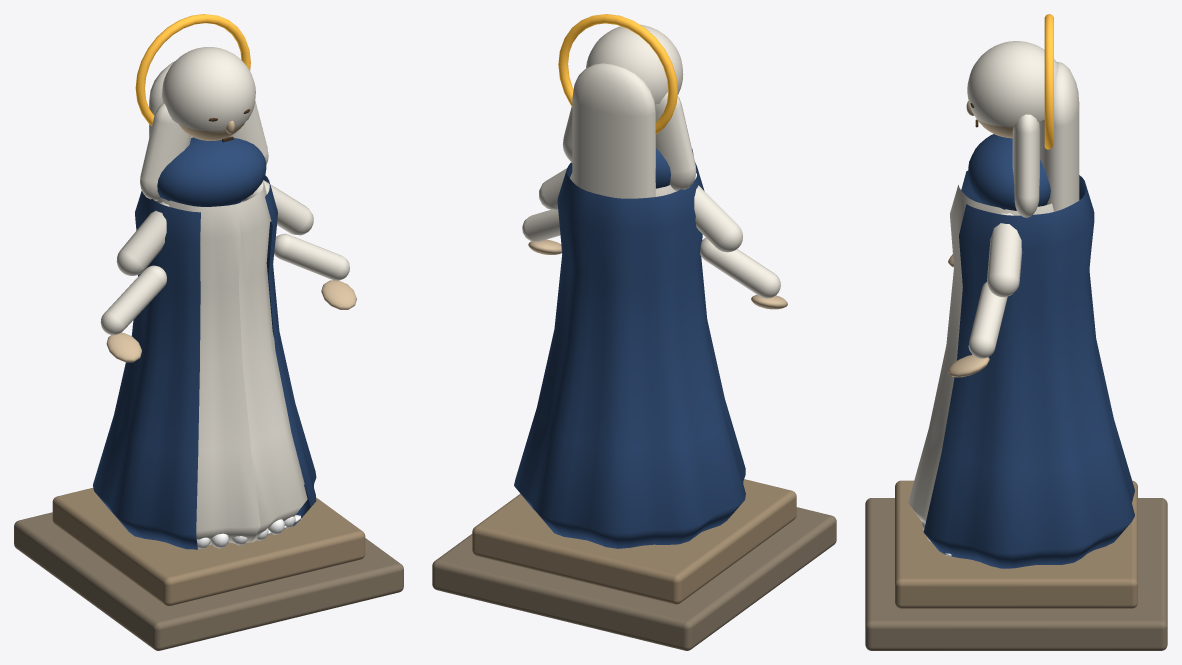
File: statue-mary-grace.glb
3 views of the same model, side by side, from view 1: azimuth 30°, elevation 25°; view 2: azimuth 150°, elevation 25°; view 3: azimuth 270°, elevation 25° (orthographic). The views are drawn at different scales.
Visible parts, largest first — view 1: Dress, Mantle, PlinthLow, PlinthTop, VeilWhite, Shoulders, ForeOpen (×2), ArmOpen (×2), VeilShoulder (×2), object 33, HandOpen (×2); view 2: Mantle, PlinthLow, PlinthTop, VeilDrape, VeilWhite, ForeOpen (×2), object 33, ArmOpen (×2), VeilShoulder; view 3: Mantle, PlinthLow, PlinthTop, VeilWhite, Dress, VeilDrape, Shoulders, VeilShoulder, ArmOpen, ForeOpen, object 33, HandOpen.
Part boxes in pixels (x1,y1,x2,y2): Dress: (155, 181, 307, 544); Mantle: (93, 175, 316, 549); PlinthLow: (14, 512, 403, 650); PlinthTop: (52, 488, 365, 606); VeilWhite: (162, 47, 255, 131); Shoulders: (157, 137, 266, 206); ForeOpen (×2): (100, 233, 349, 335); ArmOpen (×2): (116, 180, 313, 275); VeilShoulder (×2): (140, 101, 268, 200); object 33: (135, 14, 250, 125); HandOpen (×2): (106, 280, 356, 362); Mantle: (514, 162, 745, 548); PlinthLow: (432, 507, 836, 650); PlinthTop: (472, 479, 796, 604); VeilDrape: (572, 63, 655, 198); VeilWhite: (586, 24, 683, 104); ForeOpen (×2): (522, 209, 780, 298); object 33: (558, 14, 677, 134); ArmOpen (×2): (539, 168, 742, 252); VeilShoulder: (655, 92, 696, 190); Mantle: (923, 170, 1134, 568); PlinthLow: (865, 498, 1167, 650); PlinthTop: (895, 480, 1137, 608); VeilWhite: (967, 41, 1058, 126); Dress: (908, 185, 1053, 523); VeilDrape: (1039, 62, 1079, 211); Shoulders: (968, 134, 1050, 210); VeilShoulder: (1012, 114, 1039, 217); ArmOpen: (987, 213, 1022, 297); ForeOpen: (968, 281, 1007, 358); object 33: (1044, 14, 1053, 149); HandOpen: (948, 355, 989, 377).
Bounding box in the file's own units: 0.92 × 1.91 × 0.92.
